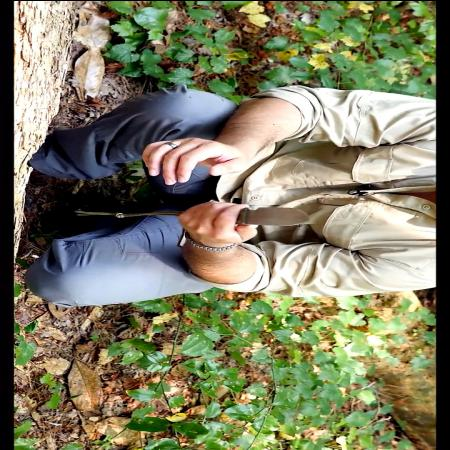long weapon: (200, 200, 316, 238)
